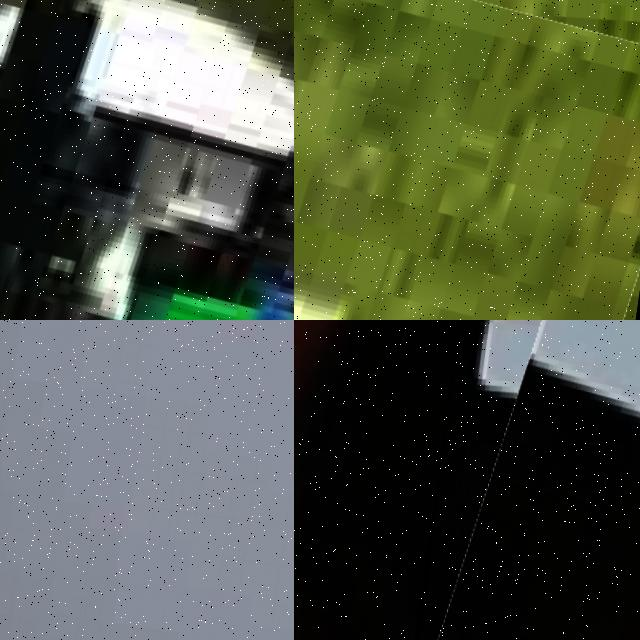drone: (294, 0, 640, 320), (0, 0, 294, 320), (376, 320, 640, 640)
